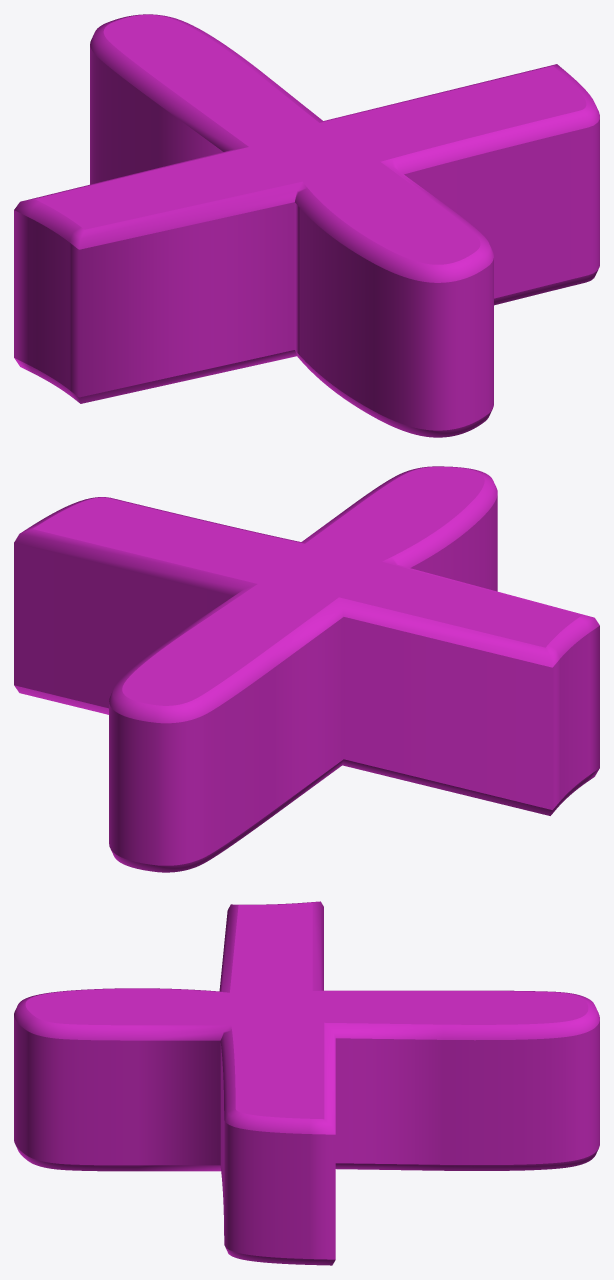
Rendered from Bubble_PlusSign.fbx.
The picture shows the model from 3 angles, top to bottom: view 1: azimuth 30°, elevation 25°; view 2: azimuth 150°, elevation 25°; view 3: azimuth 270°, elevation 25°; orthographic projection. The views are drawn at different scales.
Parts seen in each view (by area): view 1: BubblePlusSign; view 2: BubblePlusSign; view 3: BubblePlusSign.
Part boxes in pixels (bbox=[...]): BubblePlusSign: bbox=[14, 14, 599, 437]; BubblePlusSign: bbox=[14, 466, 599, 872]; BubblePlusSign: bbox=[14, 901, 599, 1265].
Size of the model in its own units: 0.4689 by 0.14 by 0.51.
